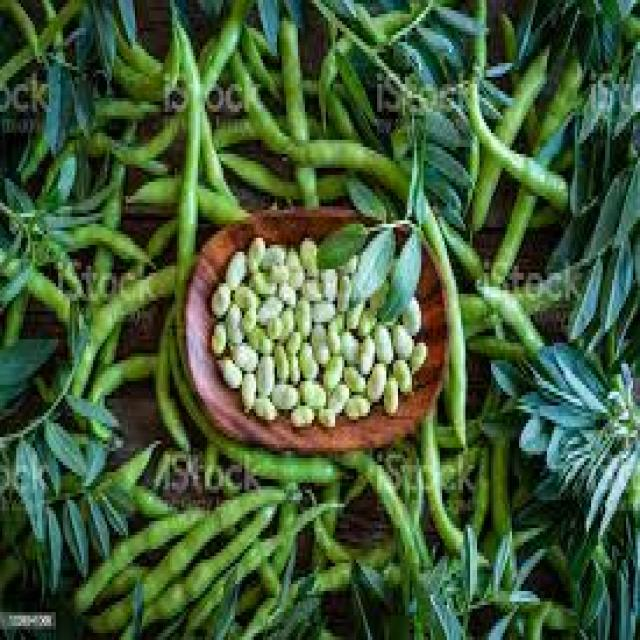Beans: (3, 335, 624, 640), (38, 26, 624, 245), (195, 218, 425, 419), (416, 208, 602, 370), (0, 205, 186, 356), (0, 0, 98, 89)
